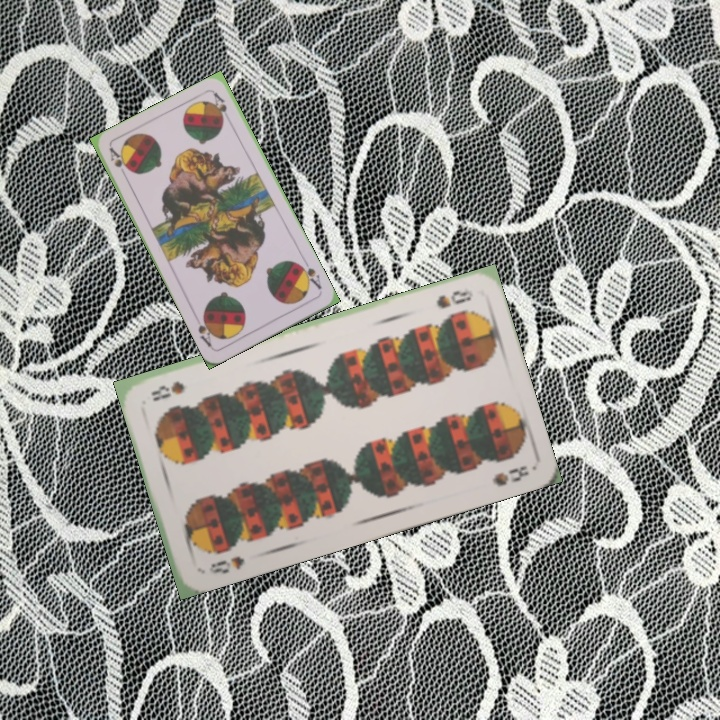S8: (432, 286, 475, 311), (205, 552, 247, 576)
SA: (294, 256, 324, 292), (105, 143, 131, 173)
